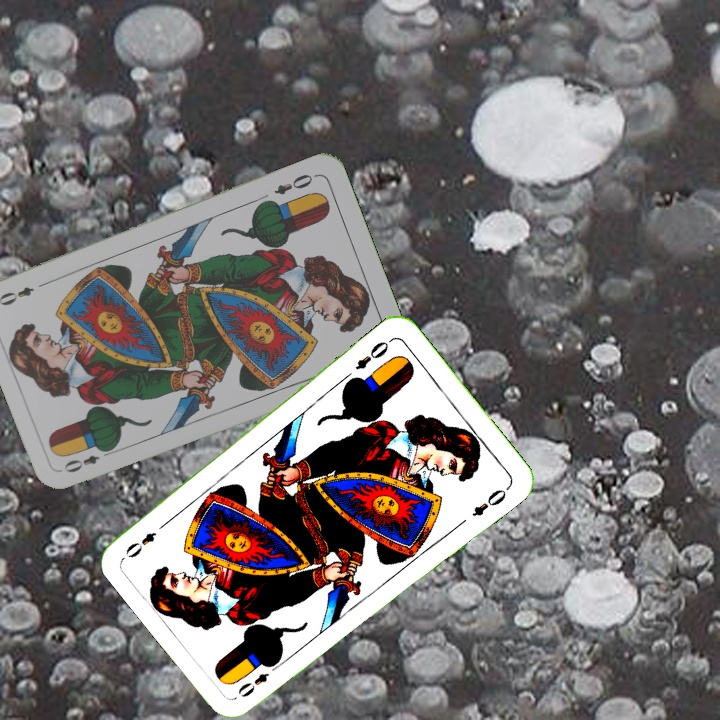EO: (233, 658, 284, 700), (60, 445, 116, 476), (351, 334, 395, 373), (270, 169, 320, 198)
